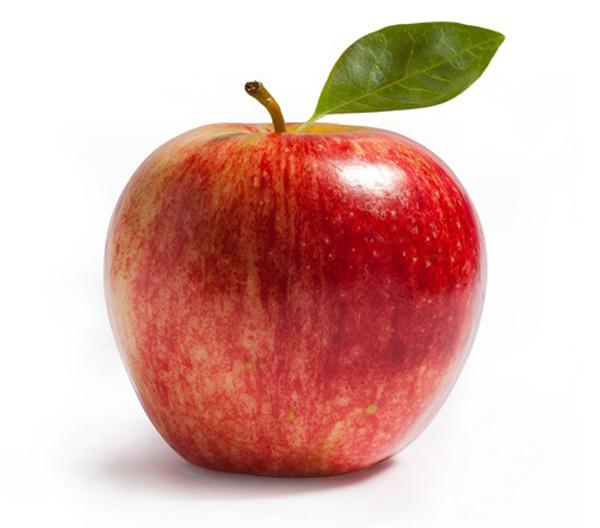apples: (101, 16, 509, 485)
